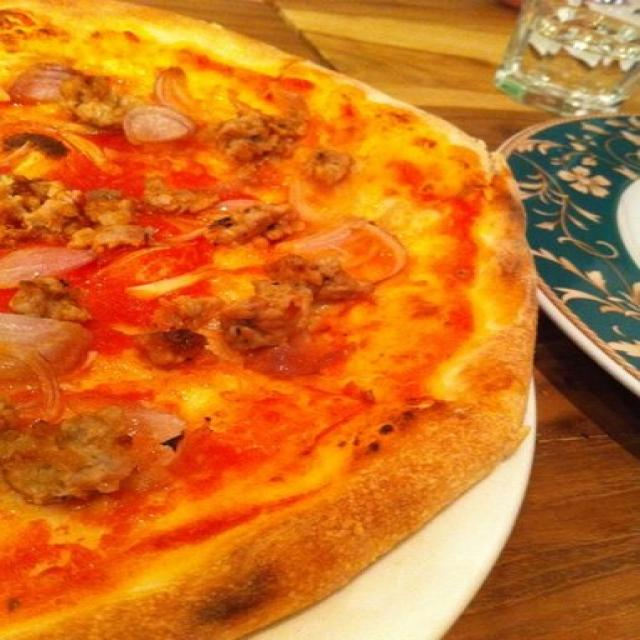Beef: (19, 411, 129, 501), (218, 105, 313, 157), (228, 284, 298, 351), (0, 174, 71, 238), (216, 207, 300, 245), (268, 249, 338, 287), (159, 290, 219, 328), (0, 135, 55, 176), (83, 192, 134, 235), (148, 328, 204, 365), (70, 84, 112, 124), (61, 229, 140, 240)
Onions: (0, 336, 76, 418), (125, 406, 196, 484), (342, 218, 418, 287), (0, 250, 101, 288), (118, 103, 194, 150), (13, 53, 84, 100), (150, 65, 194, 106), (204, 196, 277, 218), (0, 314, 70, 334), (282, 230, 354, 248)
Pizza: (2, 0, 534, 640)
